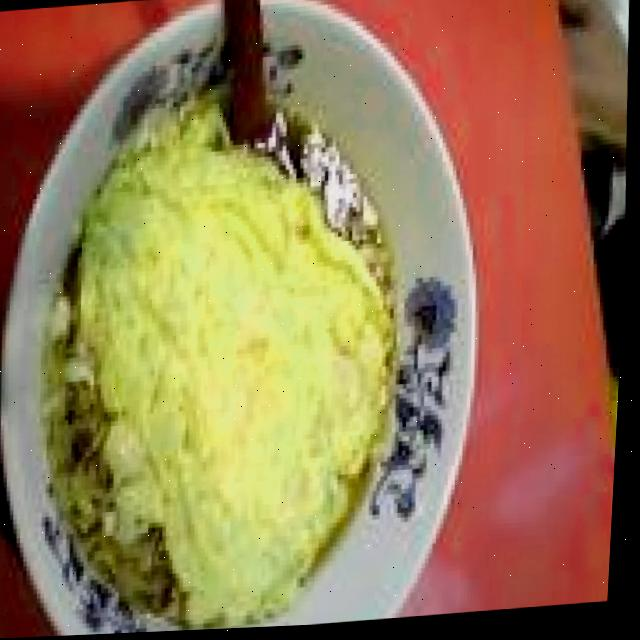面条主食: (16, 71, 427, 639)
